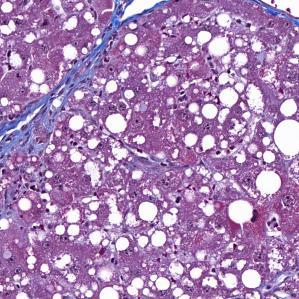fibrosis: (18, 51, 110, 131)
